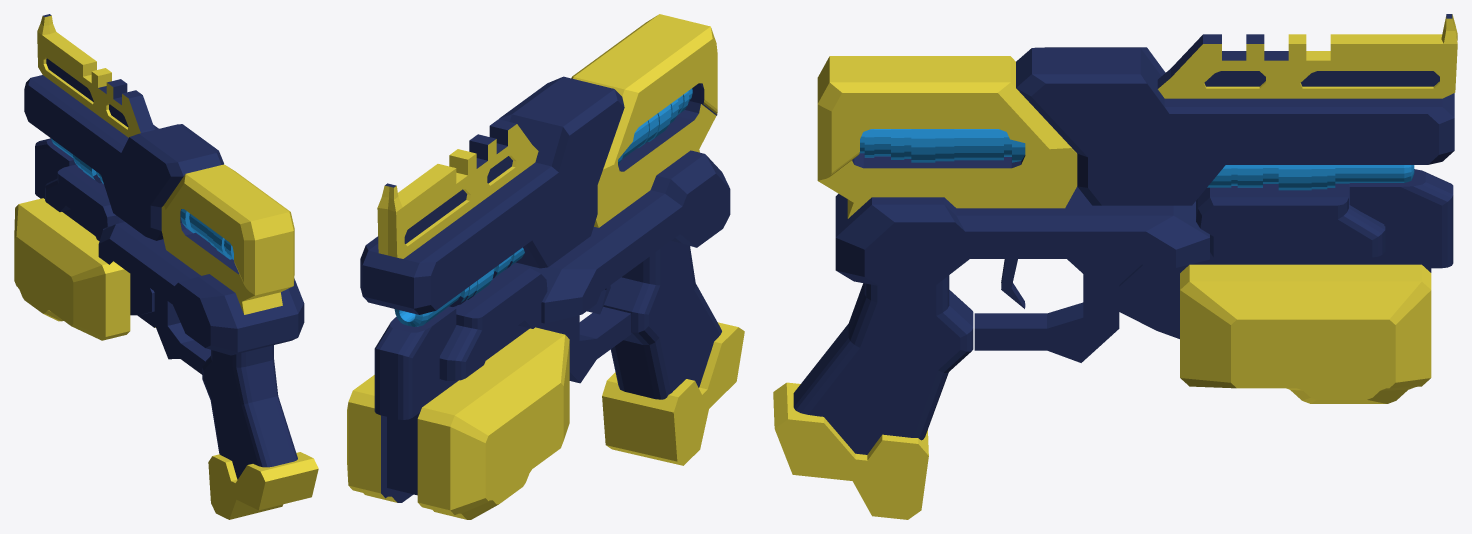
Rendered from Pistol Usman.fbx.
3 views of the same model, side by side, from view 1: azimuth 30°, elevation 25°; view 2: azimuth 150°, elevation 25°; view 3: azimuth 270°, elevation 25° (orthographic). The views are drawn at different scales.
Visible parts, largest first — view 1: Cube; view 2: Cube; view 3: Cube.
Boxes of the visible parts, <box> form: Cube: <box>14,14,318,519</box>; Cube: <box>347,14,744,519</box>; Cube: <box>773,14,1457,519</box>.
Size of the model in its own units: 348 by 1108 by 1417.
